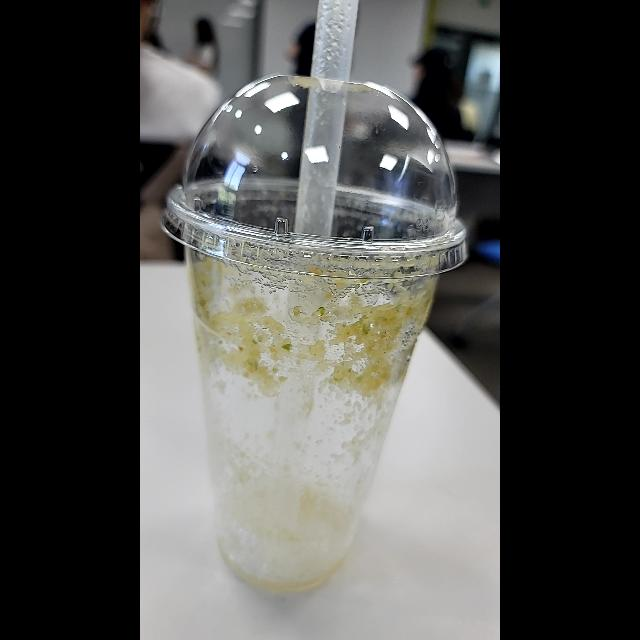plastic_cup: (170, 72, 472, 596)
plastic_cup_lid: (167, 72, 477, 282)
